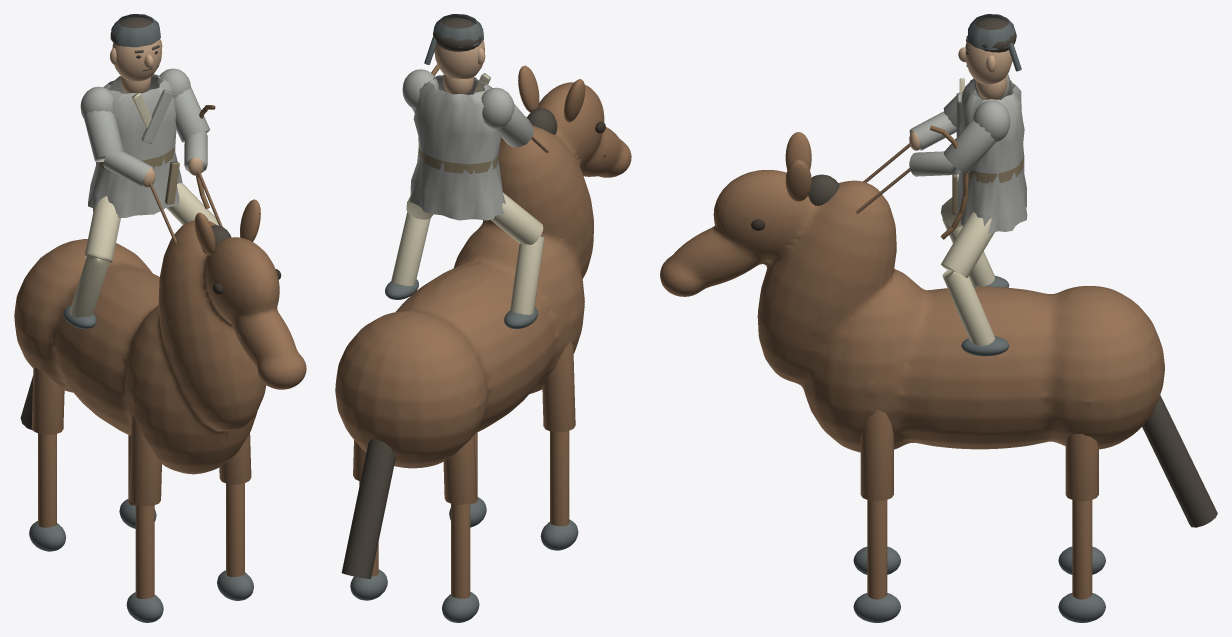
The model's file is cavalry-jin.glb.
3 renders of one model, left to right at view 1: azimuth 30°, elevation 25°; view 2: azimuth 150°, elevation 25°; view 3: azimuth 270°, elevation 25°, orthographic. The views are drawn at different scales.
Visible parts, largest first — view 1: Barrel, Cross-collar working coat.002, Upper leg, Lower leg, Upper leg.001, Lower leg.001, Lower leg.002, thigh.004, shin.004, upper.004, Face.002, upper.005 (+15 smaller); view 2: Barrel, Cross-collar working coat.002, Tail, Upper leg, Lower leg, Lower leg.001, shin.004, Upper leg.001, shin.005, thigh.004, Face.002, Shoulder.004 (+14 smaller); view 3: Barrel, Cross-collar working coat.002, Tail, Upper leg.002, Upper leg.003, Lower leg.002, Lower leg.003, shin.005, thigh.005, upper.005, Face.002, Hoof.003 (+6 smaller).
Boxes of the visible parts, bbox=[...] form: Barrel: bbox=[14, 220, 306, 474]; Cross-collar working coat.002: bbox=[88, 74, 182, 217]; Upper leg: bbox=[129, 416, 161, 506]; Lower leg: bbox=[135, 505, 154, 598]; Upper leg.001: bbox=[31, 367, 64, 434]; Lower leg.001: bbox=[38, 433, 56, 527]; Lower leg.002: bbox=[226, 483, 244, 576]; thigh.004: bbox=[84, 196, 120, 263]; shin.004: bbox=[69, 256, 109, 317]; upper.004: bbox=[83, 110, 123, 162]; Face.002: bbox=[112, 39, 161, 81]; upper.005: bbox=[173, 87, 209, 142]; Barrel: bbox=[335, 82, 631, 468]; Cross-collar working coat.002: bbox=[409, 75, 505, 220]; Tail: bbox=[341, 439, 395, 578]; Upper leg: bbox=[542, 341, 575, 432]; Lower leg: bbox=[550, 431, 569, 526]; Lower leg.001: bbox=[451, 503, 470, 598]; shin.004: bbox=[510, 235, 544, 314]; Upper leg.001: bbox=[443, 434, 476, 504]; shin.005: bbox=[391, 212, 430, 285]; thigh.004: bbox=[491, 192, 543, 244]; Face.002: bbox=[434, 40, 484, 78]; Shoulder.004: bbox=[481, 87, 514, 128]; Barrel: bbox=[660, 170, 1164, 452]; Cross-collar working coat.002: bbox=[957, 77, 1027, 233]; Tail: bbox=[1142, 395, 1217, 527]; Upper leg.002: bbox=[860, 409, 893, 501]; Upper leg.003: bbox=[1065, 433, 1098, 501]; Lower leg.002: bbox=[867, 500, 887, 599]; Lower leg.003: bbox=[1072, 500, 1092, 599]; shin.005: bbox=[942, 270, 995, 346]; thigh.005: bbox=[941, 212, 994, 277]; upper.005: bbox=[944, 119, 995, 173]; Face.002: bbox=[965, 41, 1012, 84]; Hoof.003: bbox=[1058, 593, 1105, 622].
Size of the model in its own units: 0.7251 by 2.67 by 2.34.
